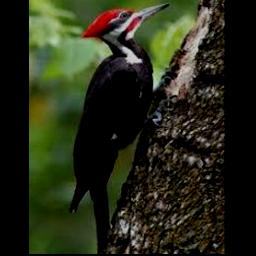Woodpecker: (70, 2, 171, 253)
